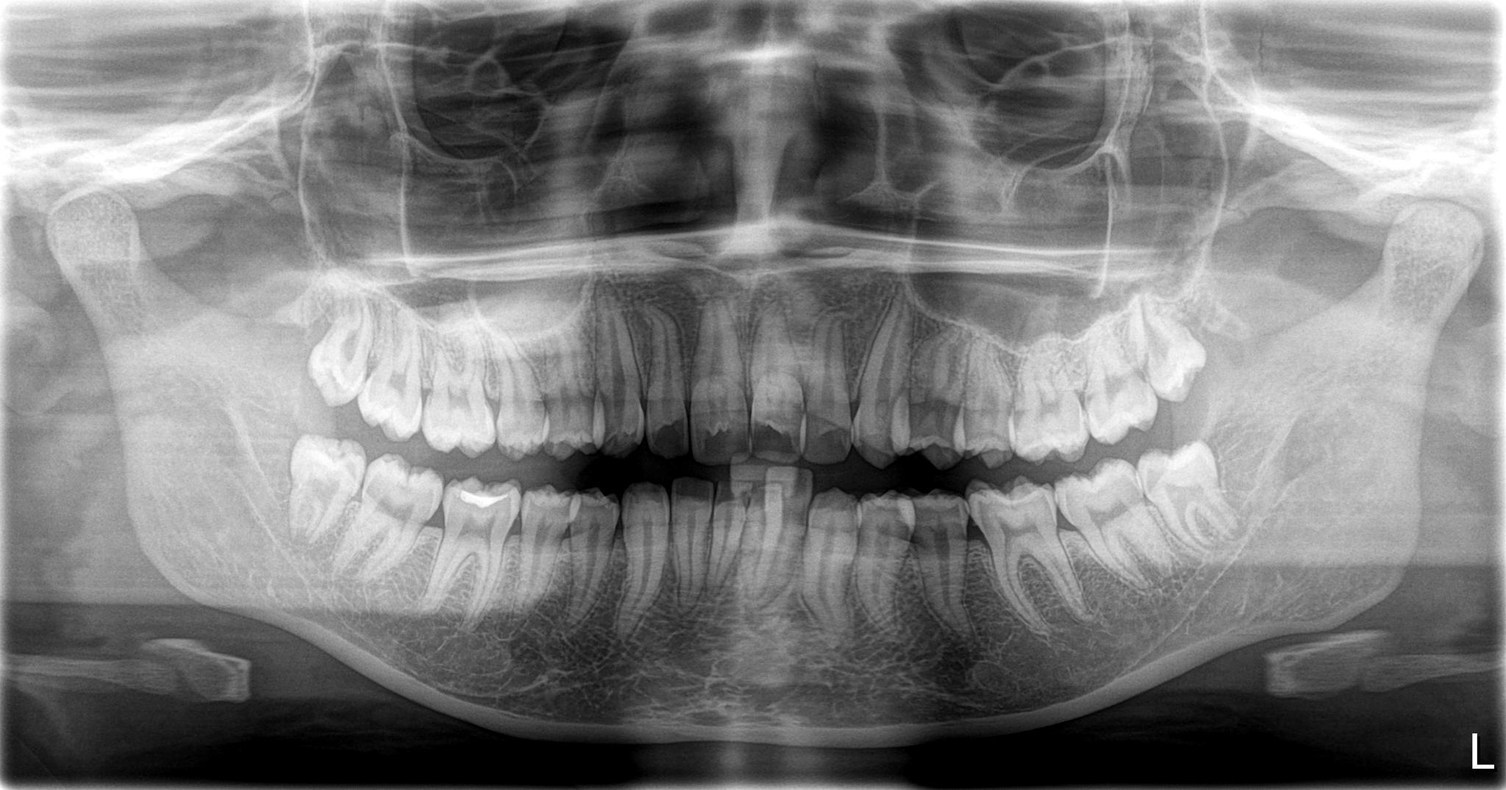Attrition: (649, 415, 810, 461)
